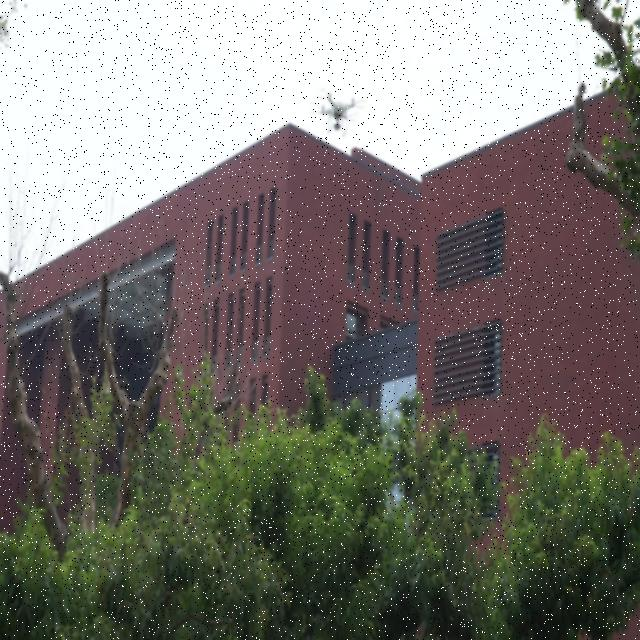UAV: (310, 89, 366, 137)
